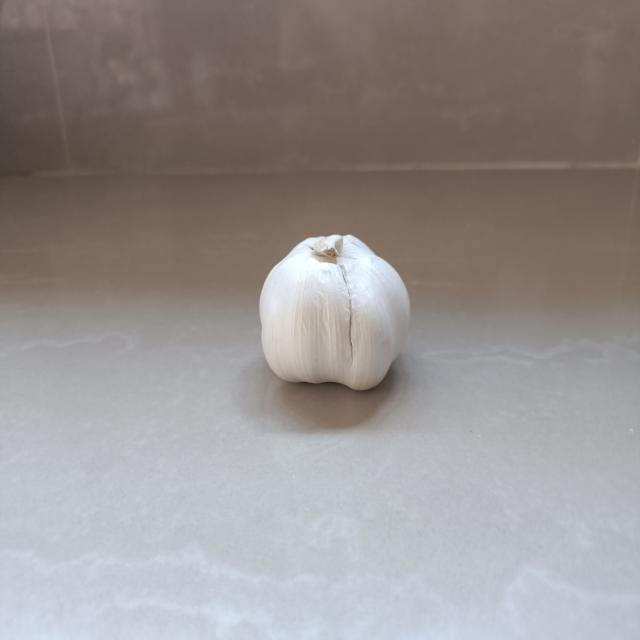garlic: (256, 219, 418, 398)
